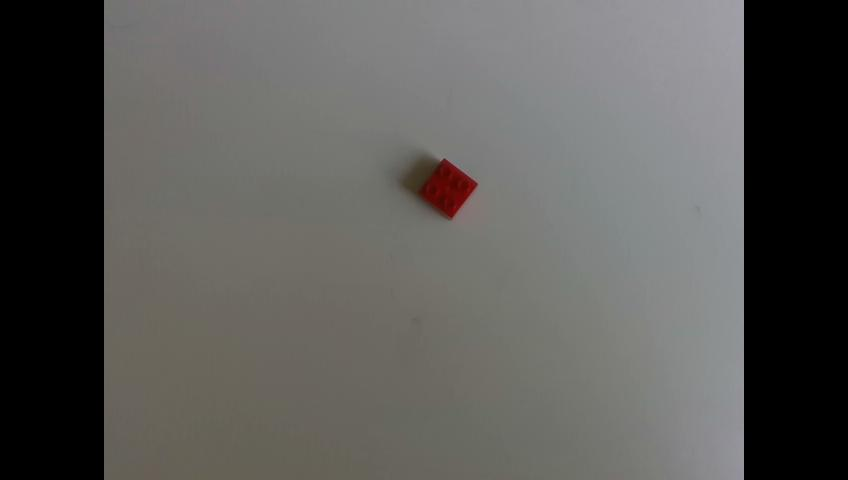2x2_red: (416, 157, 480, 221)
